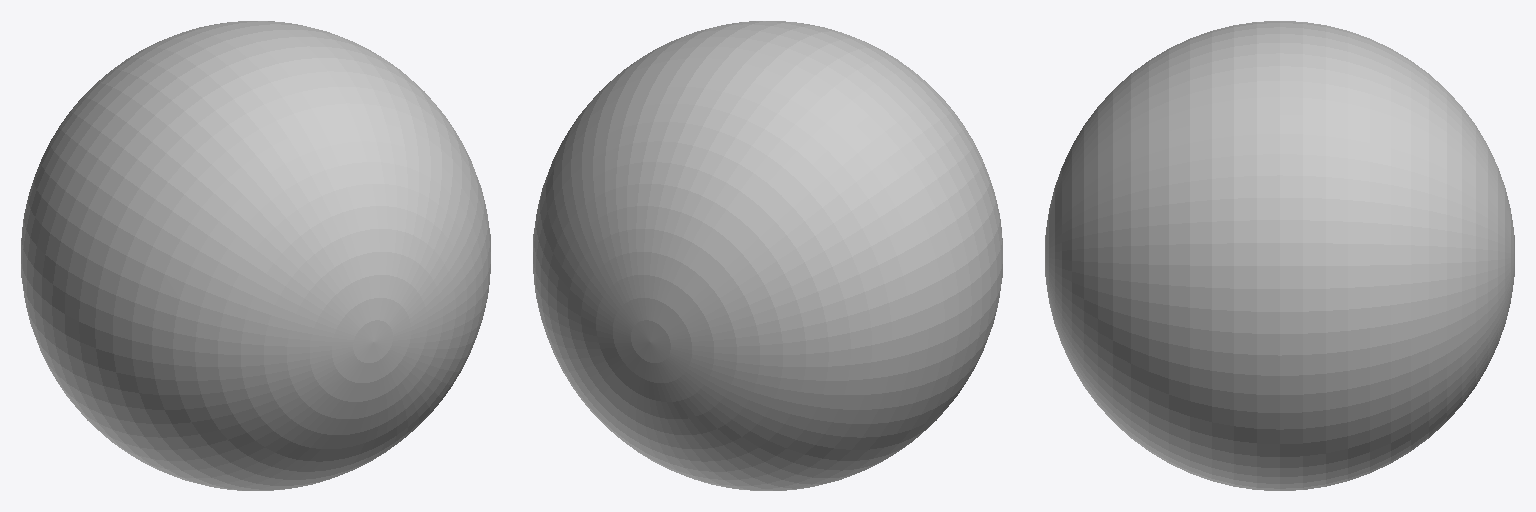
File: ball.obj
The picture shows the model from 3 angles: view 1: azimuth 30°, elevation 25°; view 2: azimuth 150°, elevation 25°; view 3: azimuth 270°, elevation 25°; orthographic projection.
Visible parts, largest first — view 1: Sphere; view 2: Sphere; view 3: Sphere.
Boxes of the visible parts, x1=… form: Sphere: x1=21, y1=21, x2=490, y2=490; Sphere: x1=533, y1=21, x2=1002, y2=490; Sphere: x1=1045, y1=21, x2=1514, y2=490.
Bounding box in the file's own units: 1.01 × 1.01 × 1.01.